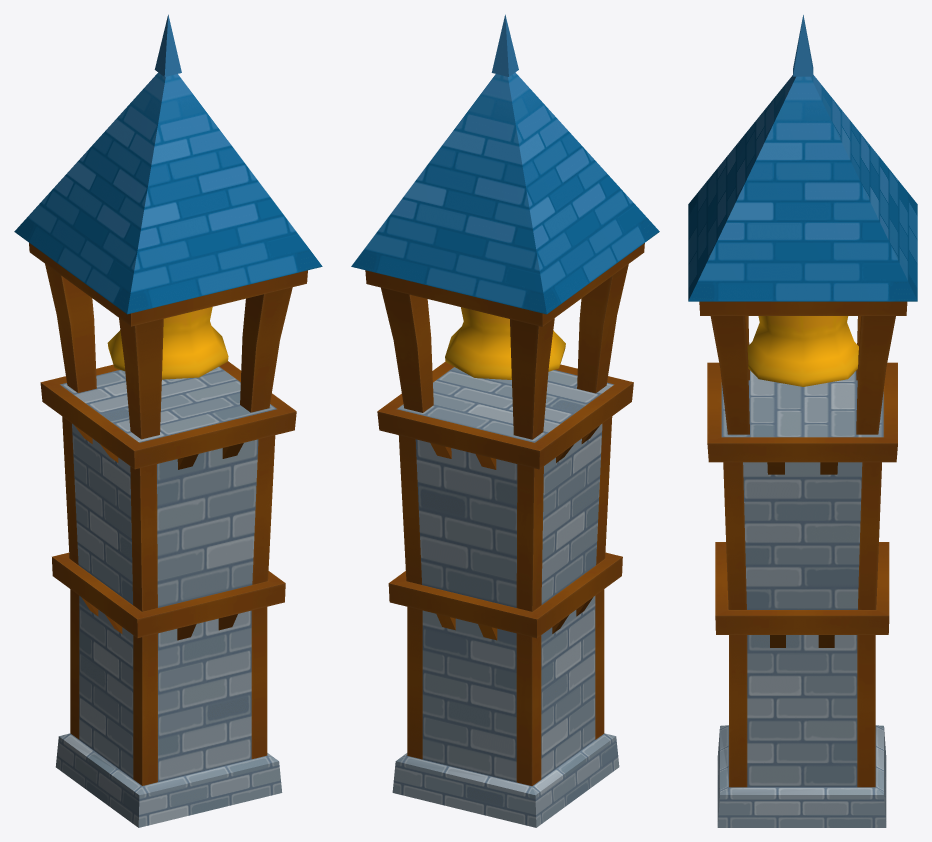
Rendered from HOS0110026.fbx.
3 views of the same model, side by side, from view 1: azimuth 30°, elevation 25°; view 2: azimuth 150°, elevation 25°; view 3: azimuth 270°, elevation 25° (orthographic).
Visible parts, largest first — view 1: smHOS0110026; view 2: smHOS0110026; view 3: smHOS0110026.
Boxes of the visible parts, left/top/right/bottom form: smHOS0110026: left=14, top=14, right=322, bottom=827; smHOS0110026: left=351, top=14, right=659, bottom=827; smHOS0110026: left=688, top=15, right=917, bottom=827.
Bounding box in the file's own units: 243 × 909 × 243.
1 material, 1 textured.
